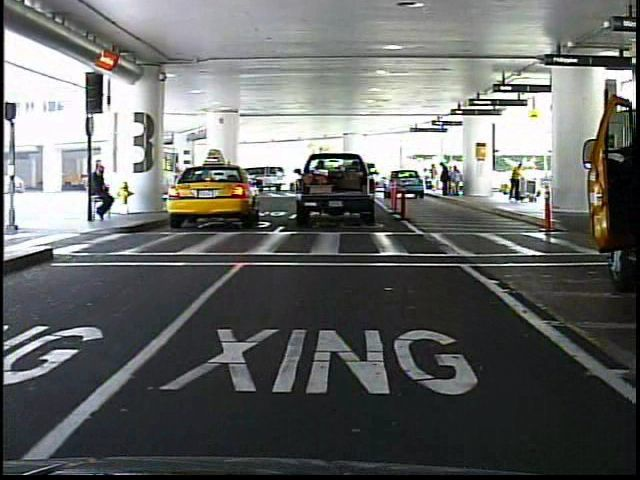person: (90, 161, 118, 228), (505, 159, 525, 208)
